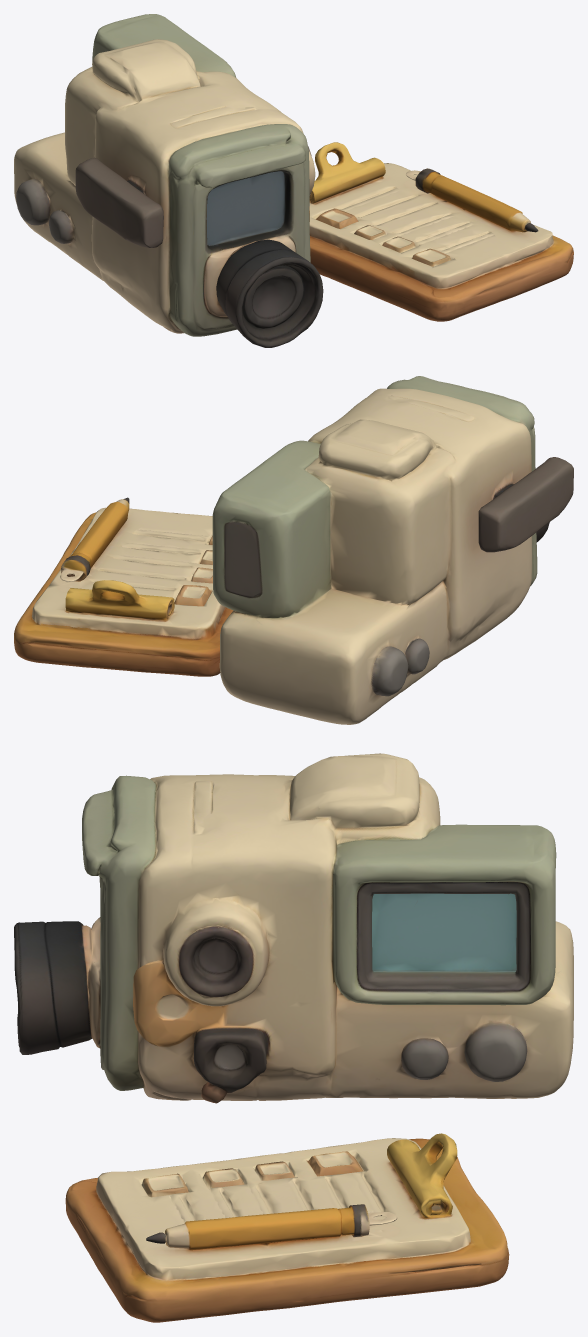
Rendered from discovery-smarttester-v2.glb.
3 views of the same model, one above another, from view 1: azimuth 30°, elevation 25°; view 2: azimuth 150°, elevation 25°; view 3: azimuth 270°, elevation 25° (orthographic). The views are drawn at different scales.
Visible parts, largest first — view 1: tripo_node_bbbb2230-b06a-4c7c-a8d7-821a27d0ce40; view 2: tripo_node_bbbb2230-b06a-4c7c-a8d7-821a27d0ce40; view 3: tripo_node_bbbb2230-b06a-4c7c-a8d7-821a27d0ce40.
Part boxes in pixels (box(x1,y1,x2,y2)): tripo_node_bbbb2230-b06a-4c7c-a8d7-821a27d0ce40: box(14, 14, 573, 347); tripo_node_bbbb2230-b06a-4c7c-a8d7-821a27d0ce40: box(14, 376, 573, 724); tripo_node_bbbb2230-b06a-4c7c-a8d7-821a27d0ce40: box(14, 753, 573, 1322).
Size of the model in its own units: 1 by 0.5204 by 0.809.
Materials: 1 (1 with a texture image).
